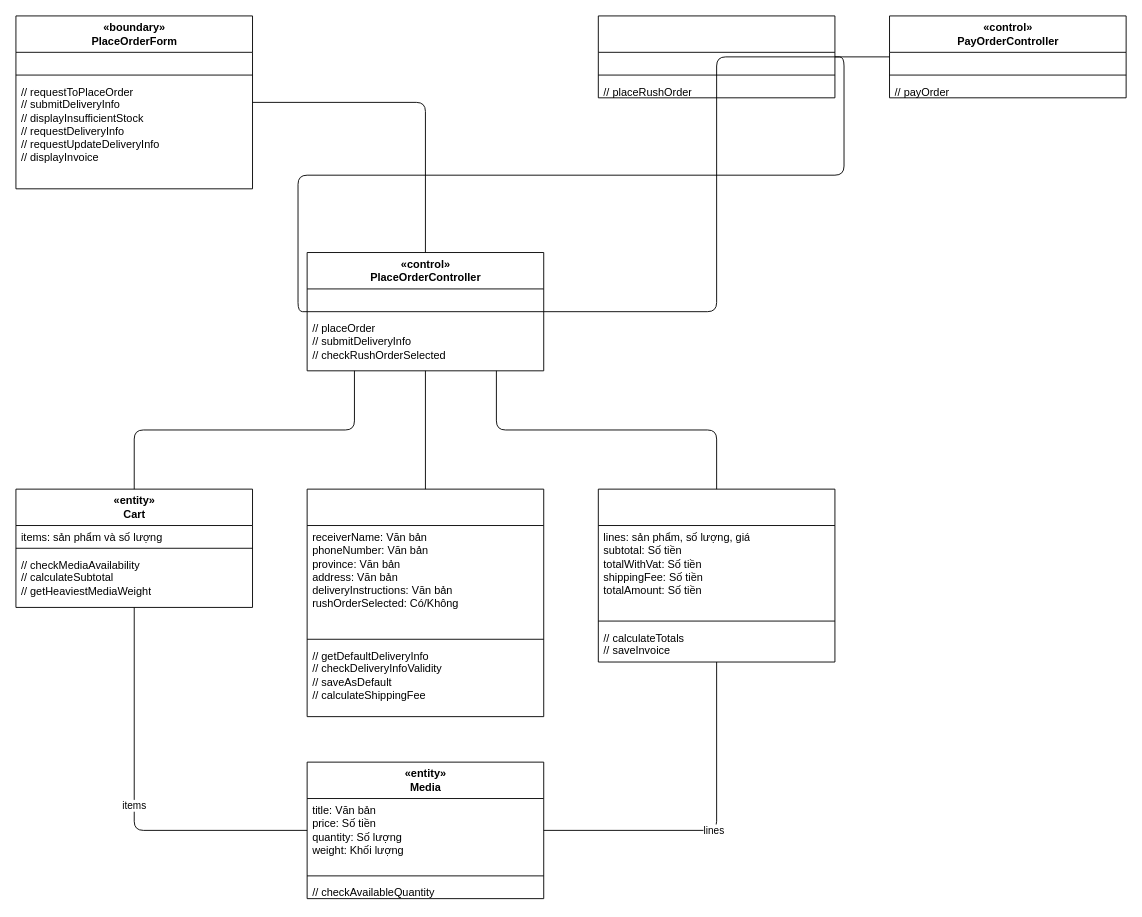
Some shapes in this 1142 by 917 pixel diagram are drawn without their labels. Here are the shapes that lost their labels. From the top down, the box of each, then its label:
(597, 15, 835, 98): «control» PlaceRushOrderController
(597, 488, 835, 662): «entity» Invoice
(306, 488, 544, 717): «entity» DeliveryInfo
